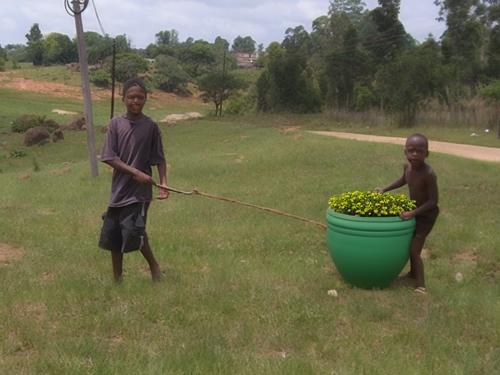person: (100, 79, 170, 284), (360, 131, 443, 300)
person/foot: (415, 286, 427, 296)
person/hand: (136, 169, 158, 187), (156, 185, 169, 200), (401, 209, 416, 219), (372, 188, 386, 196)
person/head: (121, 79, 147, 113), (404, 134, 429, 168)
pottedplant: (325, 190, 418, 289)
